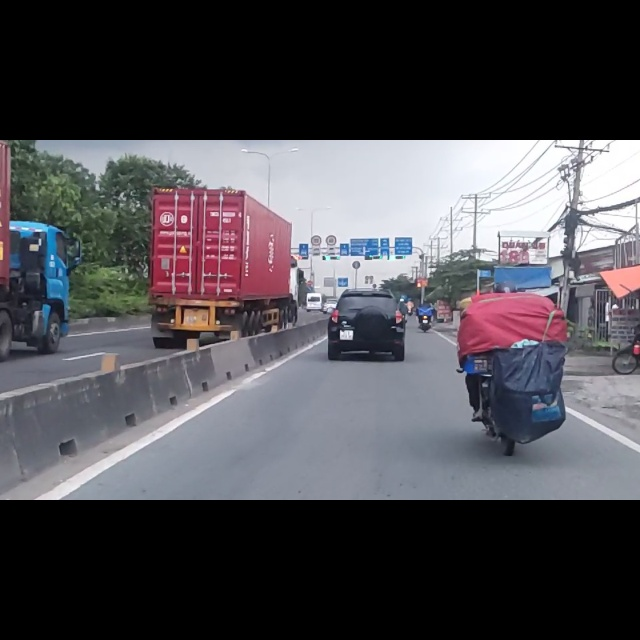bien_hieu_lenh: (325, 169, 337, 188), (311, 169, 321, 188)
